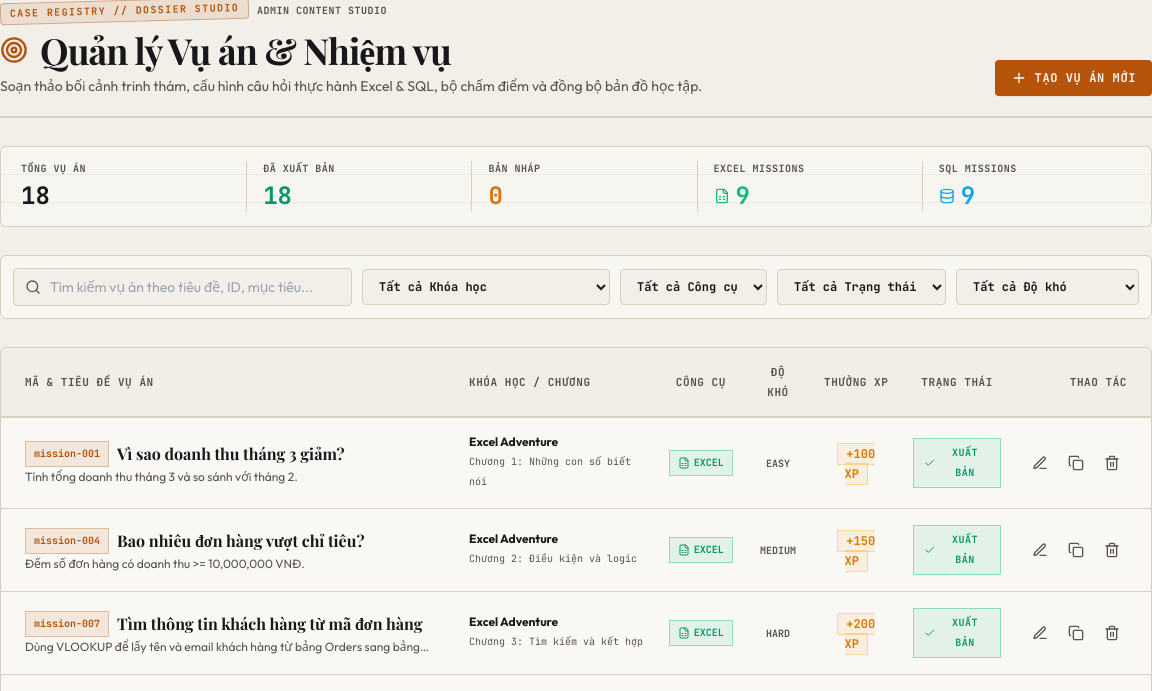
Test: AdminMissionsPage Component Tests › tìm kiếm vụ án theo từ khóa
The image size is (1152, 691).
Check: the text "Vì sao doanh thu tháng 3 giảm?" is shown, box x1=117 y1=442 x2=345 y2=466
Type "tồn kho" into the field with placeholder "Tìm kiếm vụ án theo tiêu đề, ID, mục tiêu...". click: (182, 287)
box: x1=13 y1=268 x2=352 y2=306
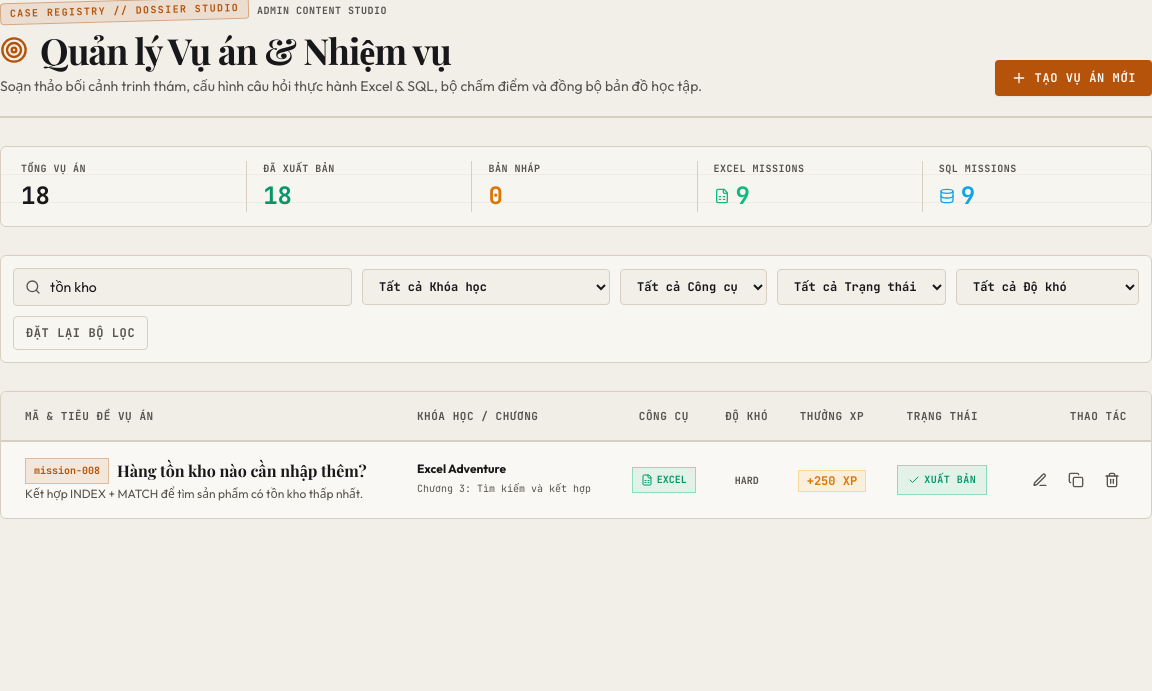
Check: the text "Hàng tồn kho nào cần nhập thêm?" is shown, box x1=117 y1=459 x2=366 y2=483
Check: the text "Vì sao doanh thu tháng 3 giảm?" is gone
